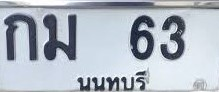txt01: (3, 13, 38, 62)
txt28: (41, 12, 78, 61)
